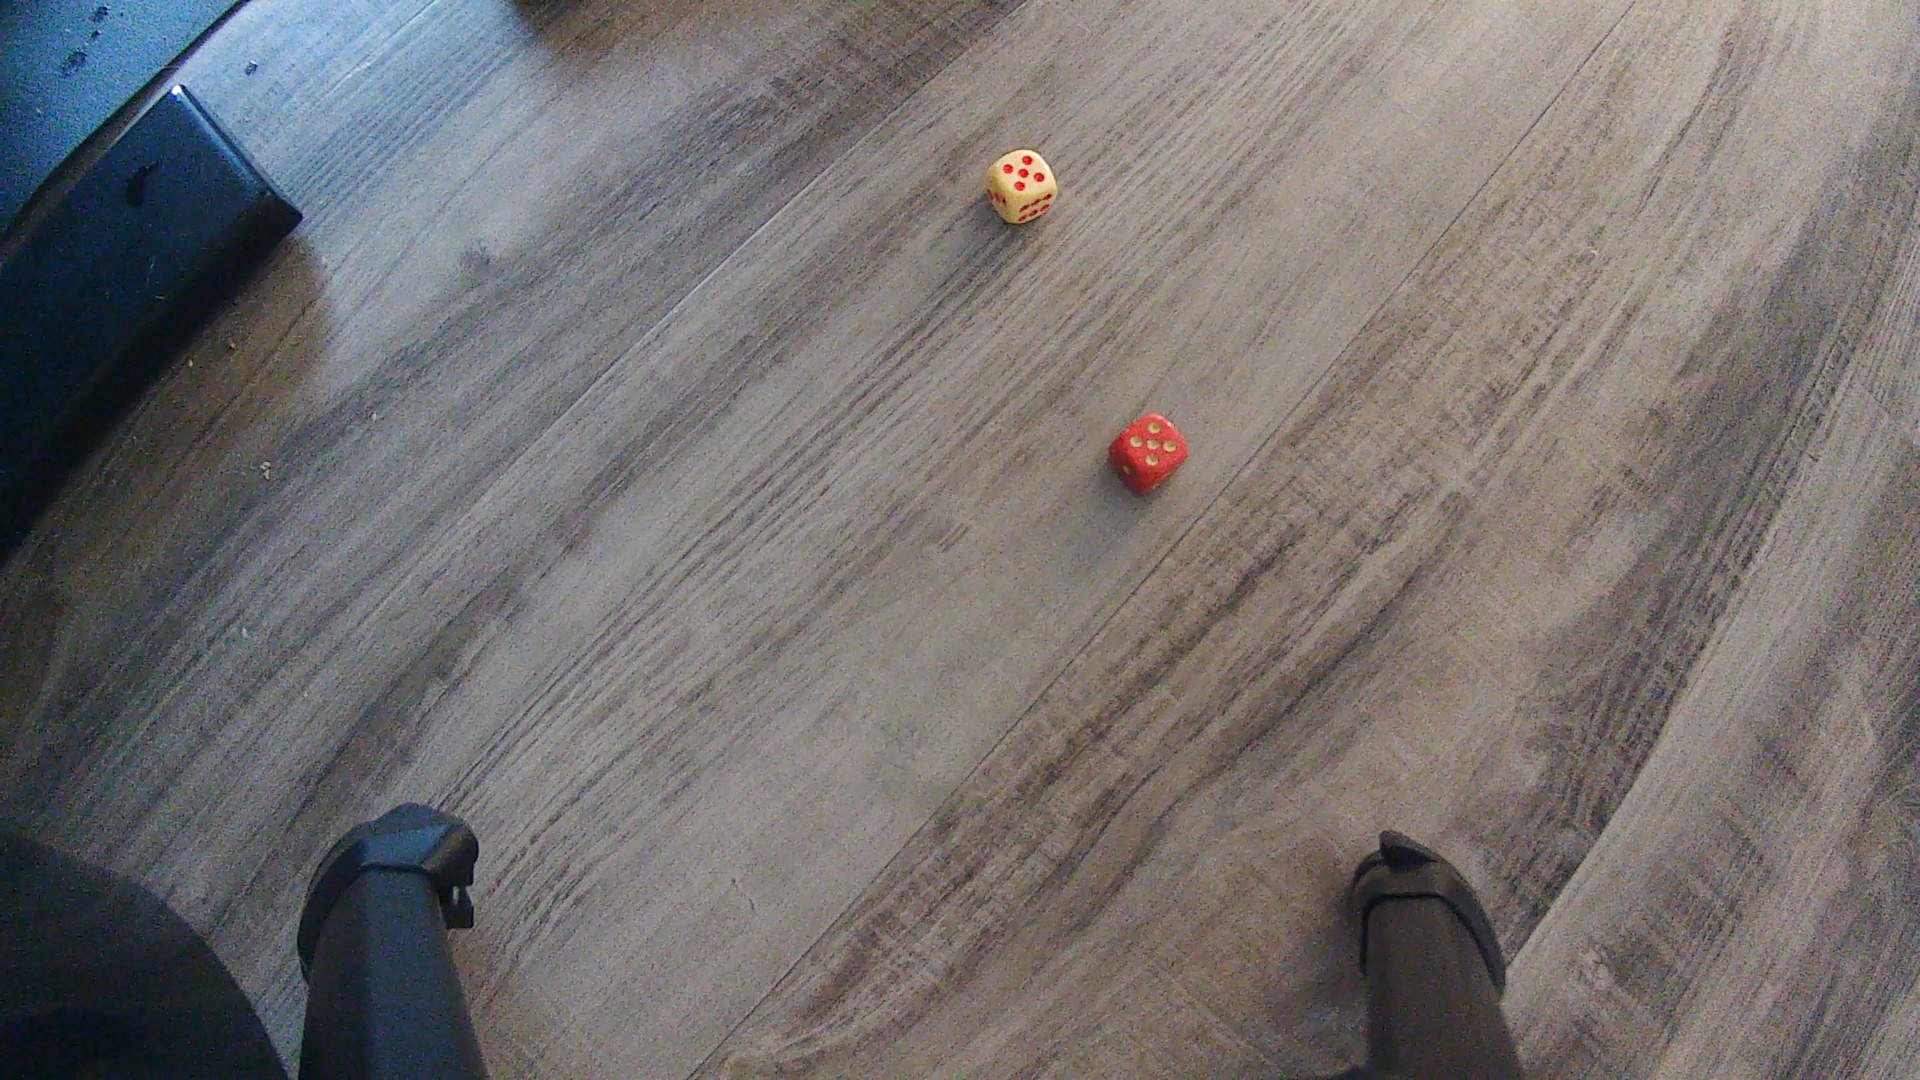die: (1106, 411, 1191, 497), (982, 146, 1060, 225)
